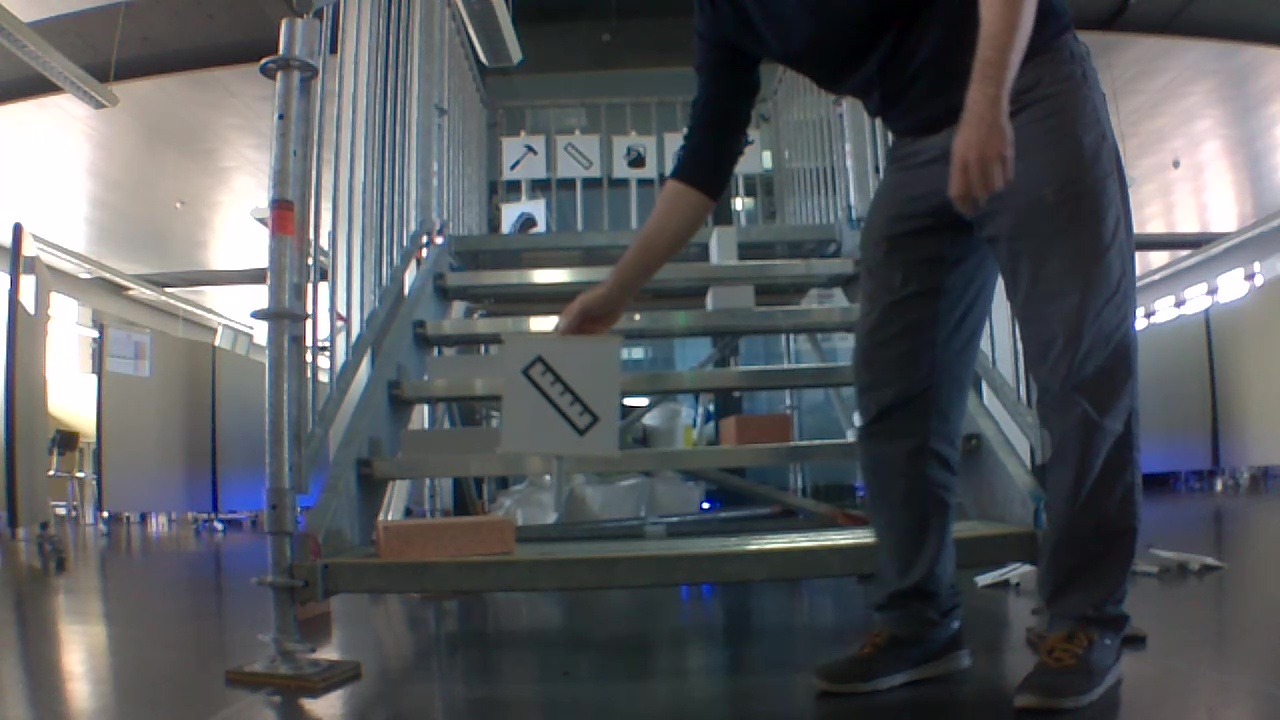brick: (377, 513, 519, 558), (721, 406, 793, 442), (692, 284, 762, 312), (715, 220, 738, 266)
bucket: (622, 143, 644, 170)
hammer: (510, 142, 537, 172)
ruler: (520, 351, 612, 432), (563, 137, 593, 172)
taco: (508, 207, 540, 239)
